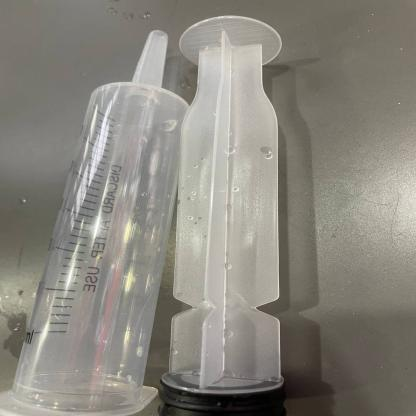wet: (13, 27, 178, 416), (161, 13, 291, 412)
